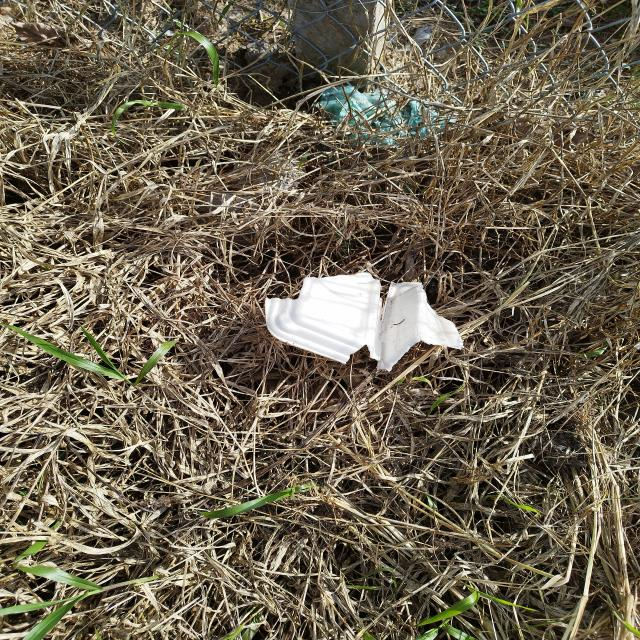foam box: (266, 272, 464, 371)
